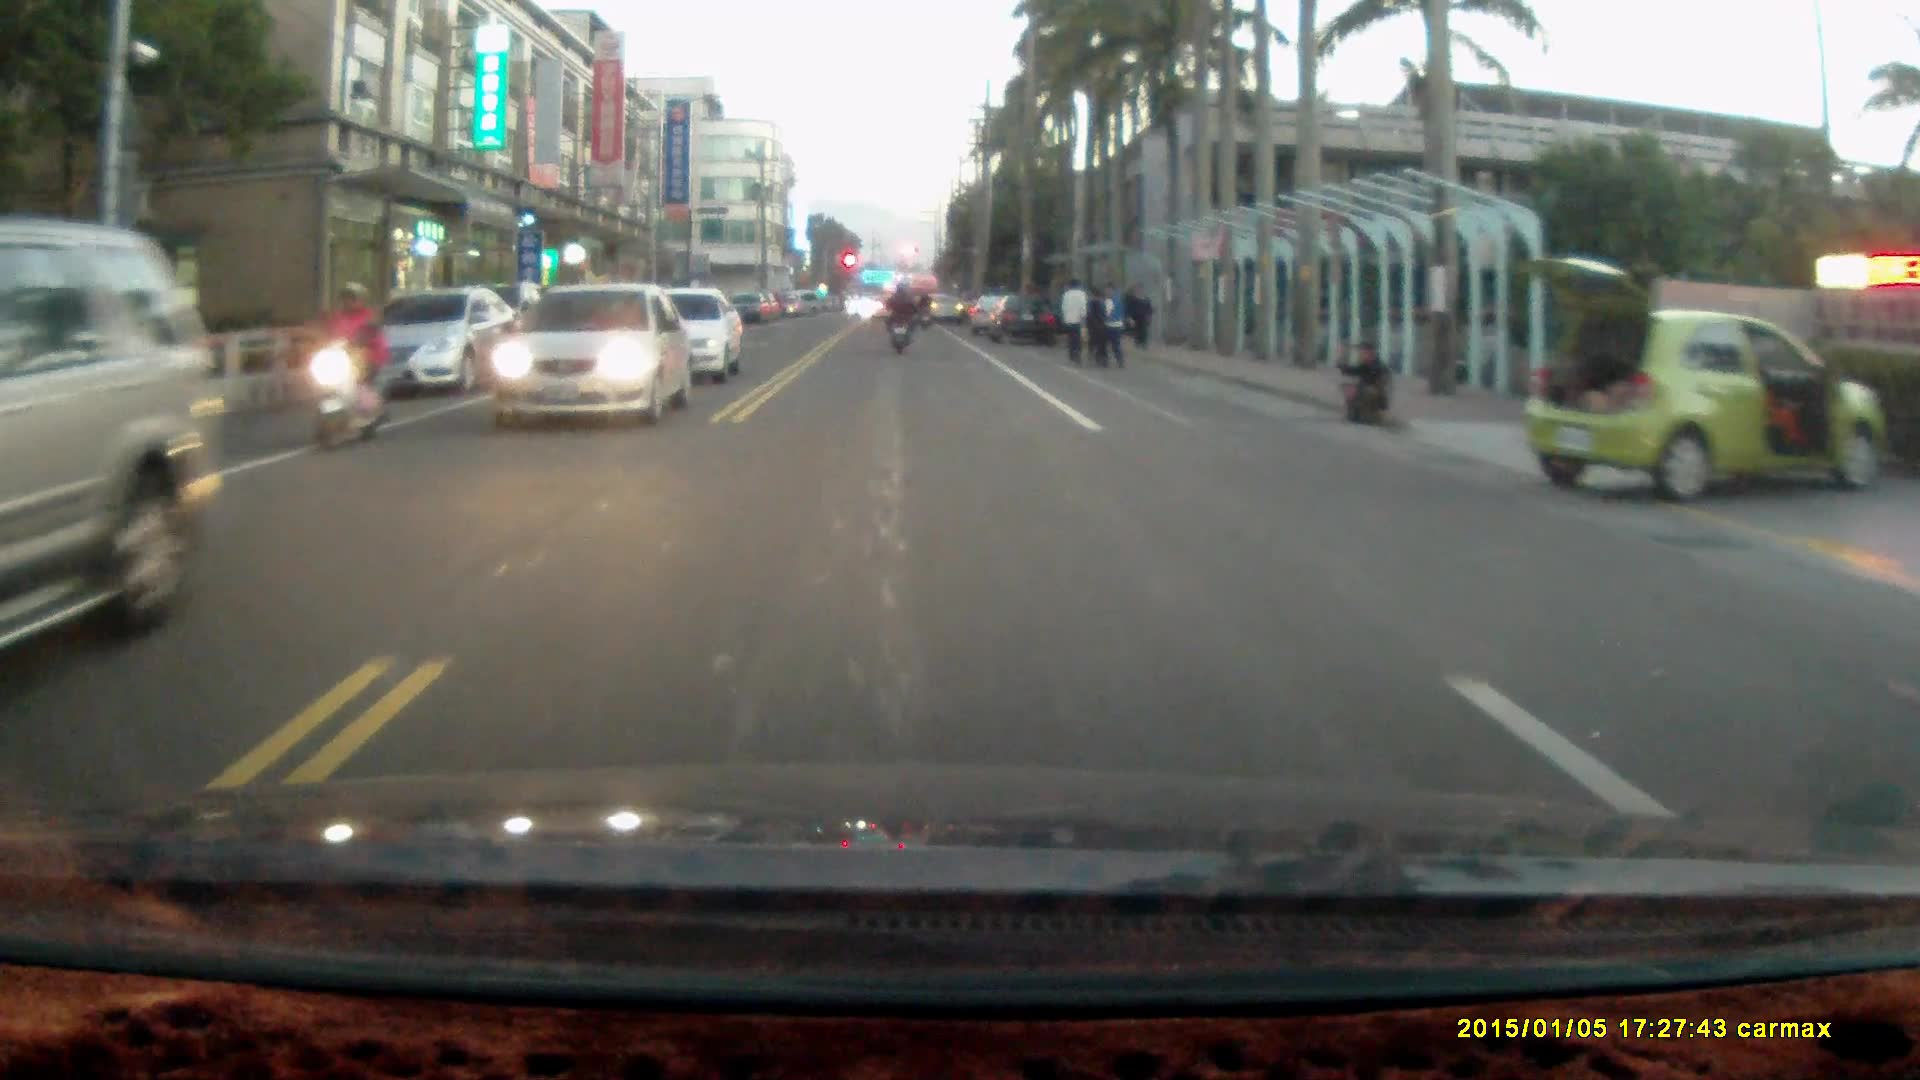pedestrian: (1331, 337, 1392, 427), (1090, 279, 1128, 373), (1059, 276, 1088, 368), (1083, 286, 1112, 372), (1126, 283, 1154, 349)
rider: (310, 281, 393, 452), (881, 282, 915, 358)
vehicle: (1, 224, 226, 686), (1509, 257, 1865, 510), (487, 282, 695, 432), (356, 288, 518, 401), (638, 287, 744, 387), (983, 293, 1058, 345)
